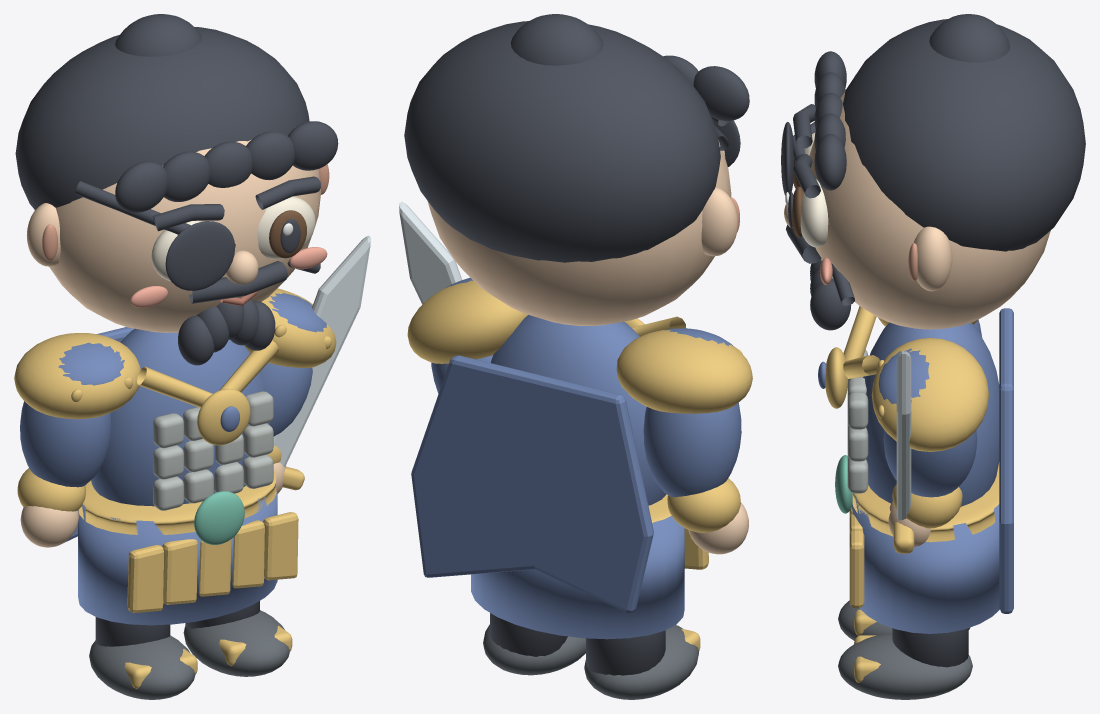
File: xiahoudun.fbx
3 renders of one model, left to right at view 1: azimuth 30°, elevation 25°; view 2: azimuth 150°, elevation 25°; view 3: azimuth 270°, elevation 25°, orthographic. The views are drawn at different scales.
Visible parts, largest first — view 1: hair_mass, face, body, robe_skirt, shoulder_gold.001, sleeve.001, dao_blade, boot, boot.001, belt, eyepatch, hair_bun (+49 smaller); view 2: hair_mass, cape, face, robe_skirt, shoulder_gold.001, body, sleeve.001, shoulder_gold, hair_bun, boot, dao_blade, leg (+9 smaller); view 3: hair_mass, face, robe_skirt, shoulder_gold, body, boot.001, cape, sleeve, hair_bun, belt, dao_blade, leg.001 (+26 smaller).
Part boxes in pixels (<box>): hair_mass: <box>15,27,309,209</box>; face: <box>34,140,321,332</box>; body: <box>91,328,269,506</box>; robe_skirt: <box>78,489,277,625</box>; shoulder_gold.001: <box>14,333,140,419</box>; sleeve.001: <box>20,401,111,487</box>; dao_blade: <box>273,235,370,466</box>; boot: <box>89,635,195,699</box>; boot.001: <box>183,610,289,676</box>; belt: <box>78,471,276,534</box>; eyepatch: <box>165,221,235,290</box>; hair_bun: <box>115,14,201,56</box>; hair_mass: <box>404,21,720,262</box>; cape: <box>411,355,653,612</box>; face: <box>427,140,731,325</box>; robe_skirt: <box>471,516,684,639</box>; shoulder_gold.001: <box>616,329,752,413</box>; body: <box>491,315,666,505</box>; sleeve.001: <box>643,402,741,497</box>; shoulder_gold: <box>407,280,527,363</box>; hair_bun: <box>511,14,603,65</box>; boot: <box>584,625,698,699</box>; dao_blade: <box>399,201,462,304</box>; leg: <box>586,630,665,675</box>; hair_mass: <box>843,19,1085,251</box>; face: <box>809,90,1050,329</box>; robe_skirt: <box>852,496,999,633</box>; shoulder_gold: <box>871,337,988,451</box>; body: <box>863,322,999,506</box>; boot.001: <box>838,633,972,699</box>; cape: <box>999,308,1013,613</box>; sleeve: <box>883,430,977,497</box>; hair_bun: <box>929,14,1010,62</box>; belt: <box>852,462,999,542</box>; dao_blade: <box>896,351,911,520</box>; leg.001: <box>892,628,968,667</box>.
Size of the model in its own units: 1.35 by 2.44 by 1.04.
